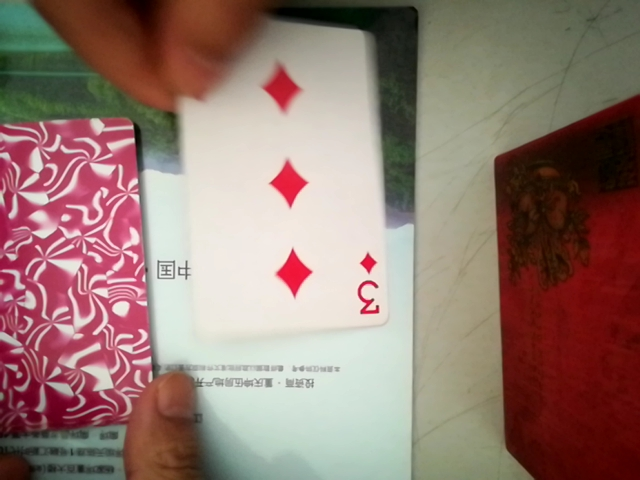fk 3: (178, 17, 390, 341)
